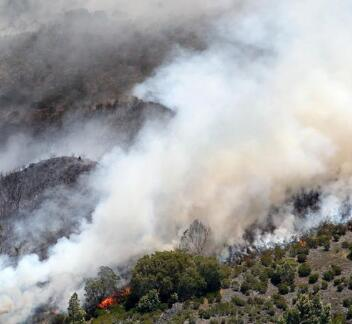fire: (98, 286, 132, 309)
yanwu: (2, 1, 352, 318)
